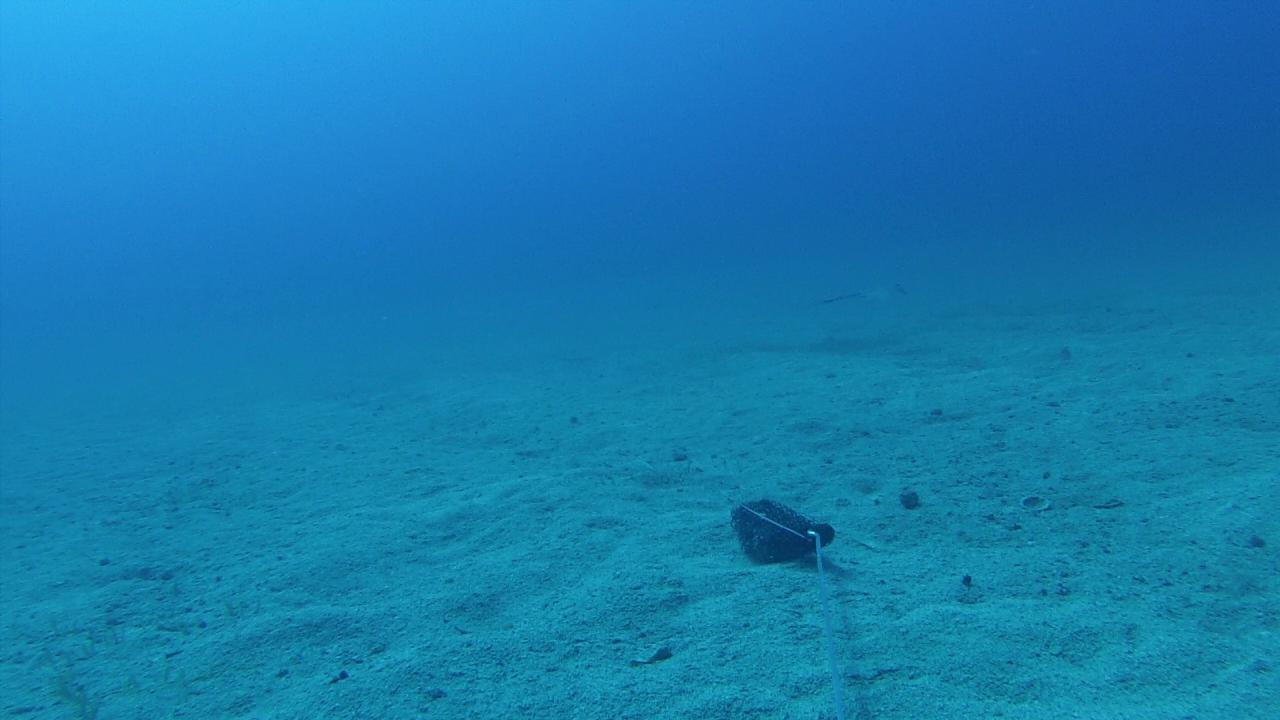dasyatis: (815, 282, 909, 306)
